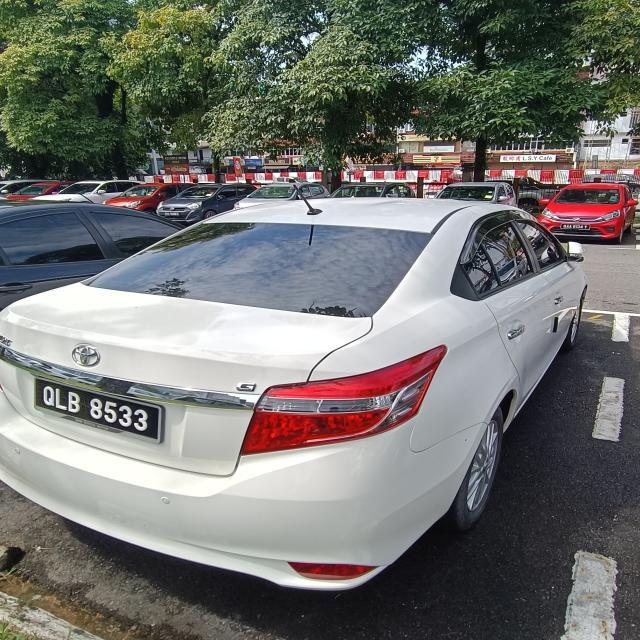ToyotaVios: (0, 195, 590, 592)
